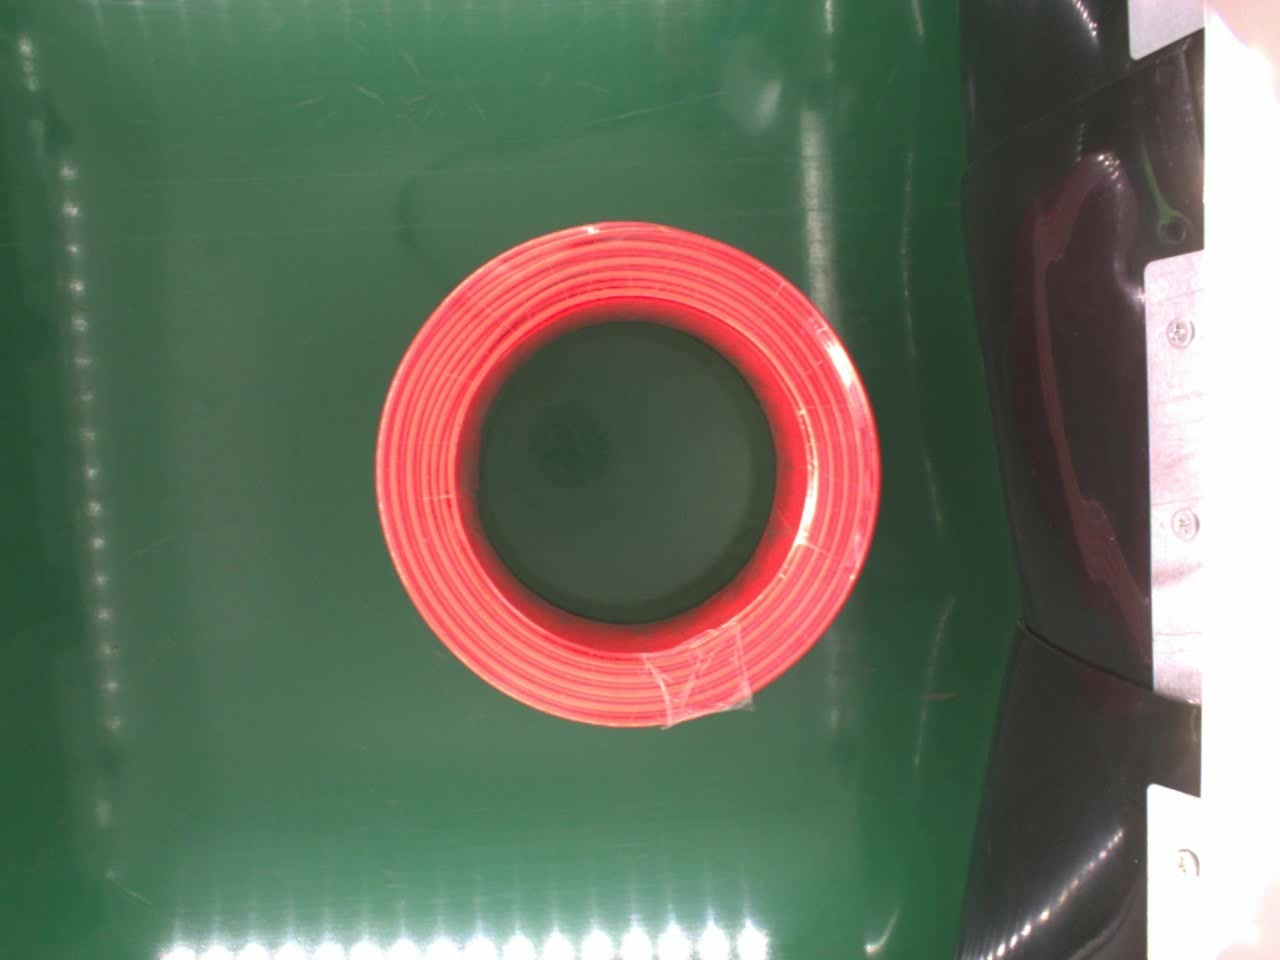red: (373, 214, 884, 731)
